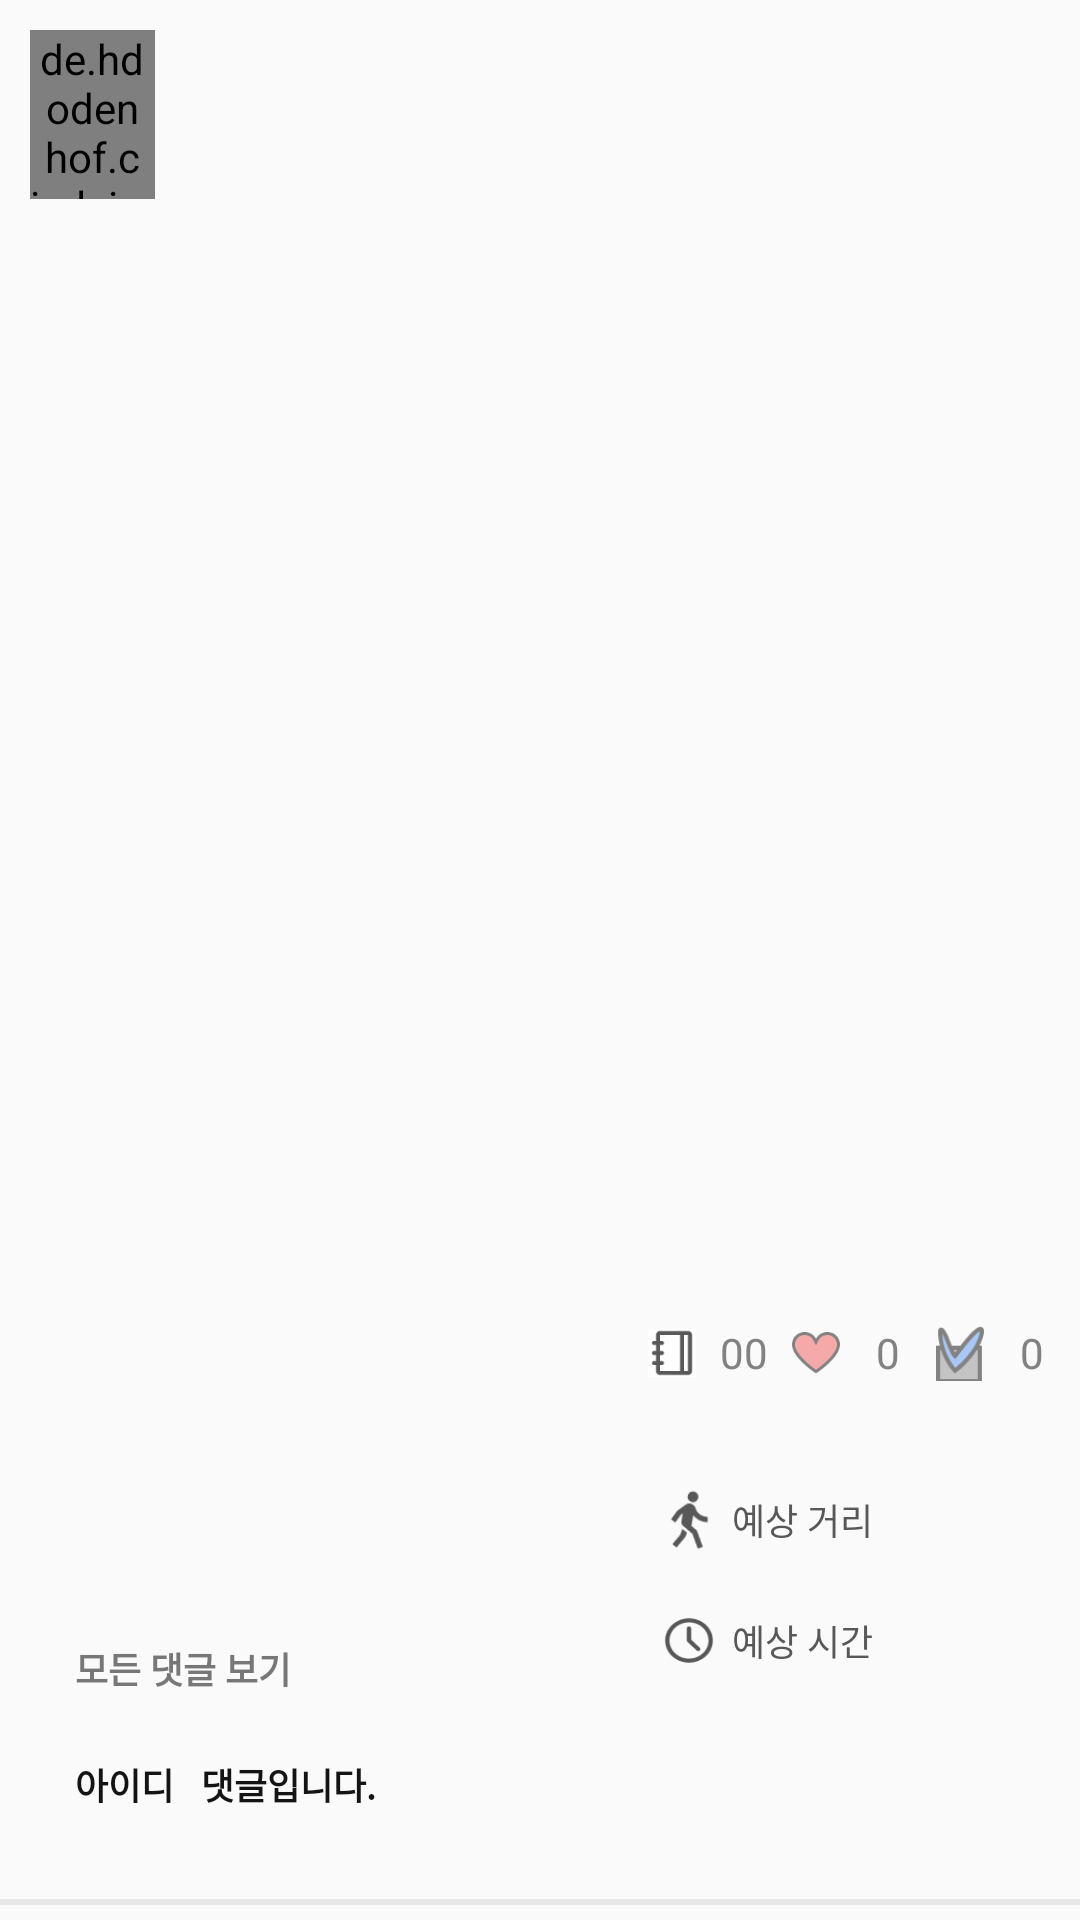

Icon bounding boxes for this 1080px×1920px phone screenshot, format (x1, y1, x2, y2):
content completion: (936, 1327, 984, 1381)
content count: (652, 1331, 693, 1375)
content distance: (671, 1491, 708, 1549)
content time: (665, 1618, 713, 1663)
